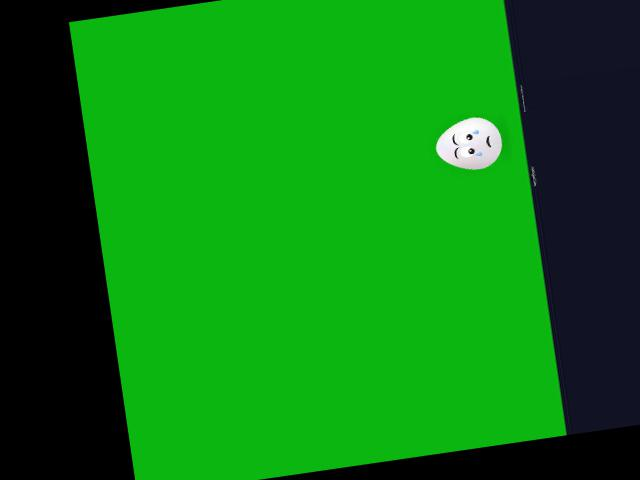egg: (432, 114, 505, 174)
